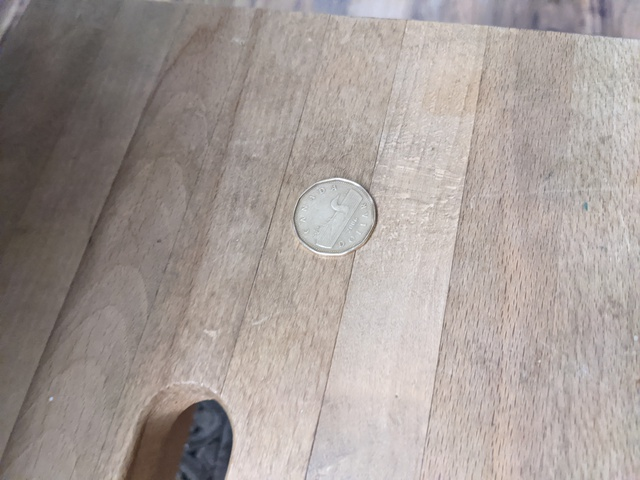loonie: (281, 167, 390, 266)
